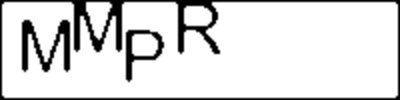M: (16, 14, 75, 75), (70, 1, 126, 56)
P: (120, 28, 171, 85)
R: (172, 1, 226, 55)
